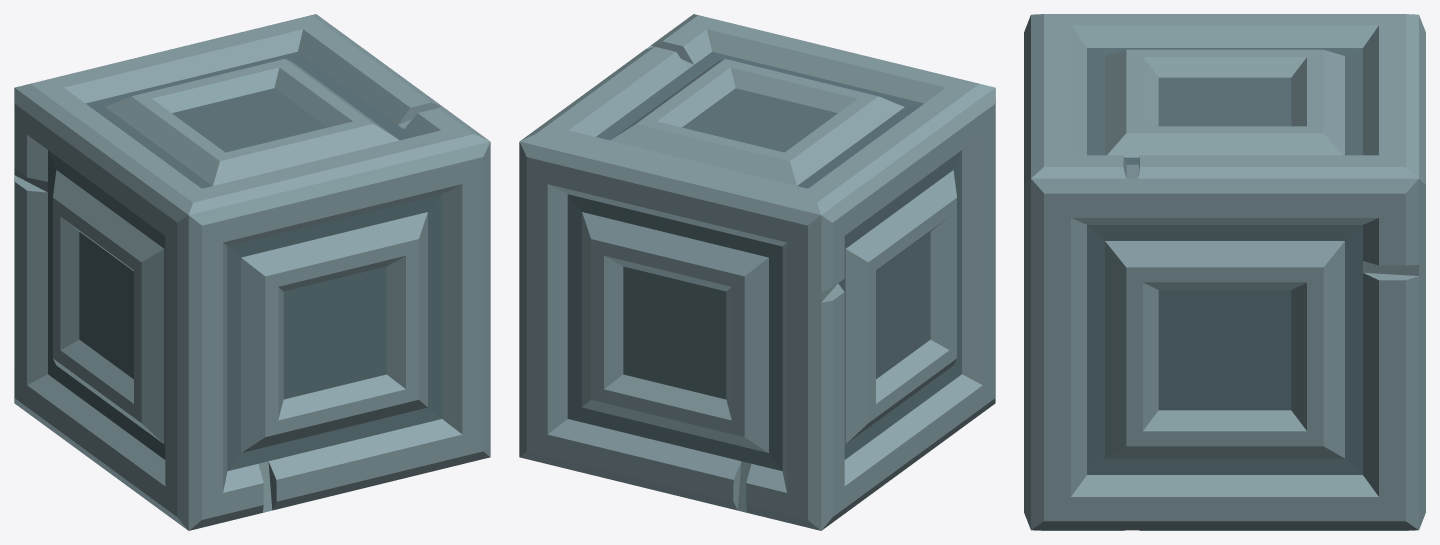
The model's file is ForestBlock.fbx.
3 views of the same model, side by side, from view 1: azimuth 30°, elevation 25°; view 2: azimuth 150°, elevation 25°; view 3: azimuth 270°, elevation 25° (orthographic). The views are drawn at different scales.
Visible parts, largest first — view 1: Cube; view 2: Cube; view 3: Cube.
Boxes of the visible parts, x1,y1,x2,y2 form: Cube: [14, 14, 490, 530]; Cube: [519, 14, 995, 530]; Cube: [1024, 14, 1425, 530].
Size of the model in its own units: 207 by 207 by 207.
